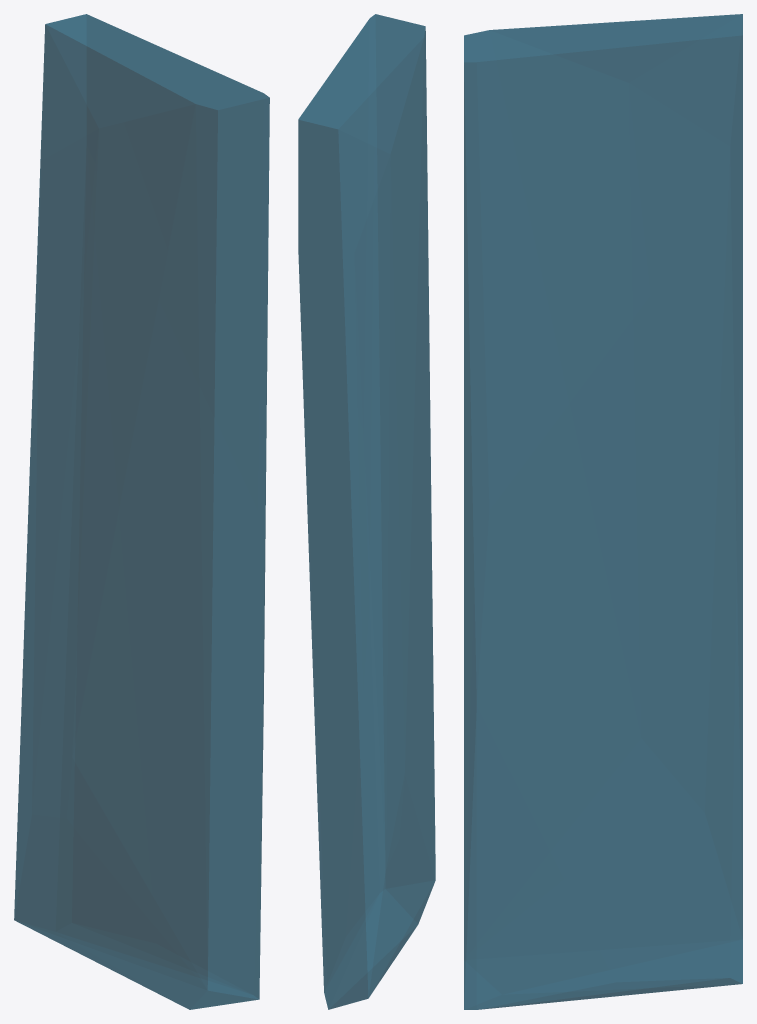
3 views of the same model, side by side, from view 1: azimuth 30°, elevation 25°; view 2: azimuth 150°, elevation 25°; view 3: azimuth 270°, elevation 25° (orthographic). The views are drawn at different scales.
Visible parts, largest first — view 1: Shape_IndexedFaceSet.088_Shape_IndexedFaceSet.9896; view 2: Shape_IndexedFaceSet.088_Shape_IndexedFaceSet.9896; view 3: Shape_IndexedFaceSet.088_Shape_IndexedFaceSet.9896.
Boxes of the visible parts, x1=… form: Shape_IndexedFaceSet.088_Shape_IndexedFaceSet.9896: x1=14, y1=14, x2=269, y2=1009; Shape_IndexedFaceSet.088_Shape_IndexedFaceSet.9896: x1=298, y1=14, x2=435, y2=1009; Shape_IndexedFaceSet.088_Shape_IndexedFaceSet.9896: x1=464, y1=14, x2=742, y2=1009.
Size of the model in its own units: 0.0681 by 0.477 by 0.1249.
